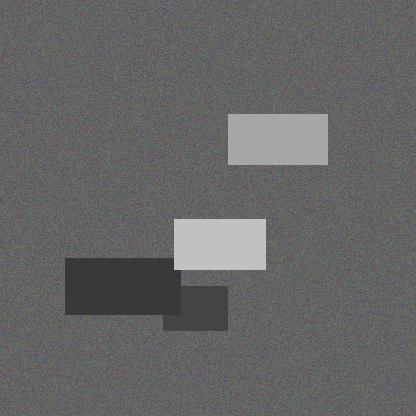empty: (219, 248, 286, 321)
